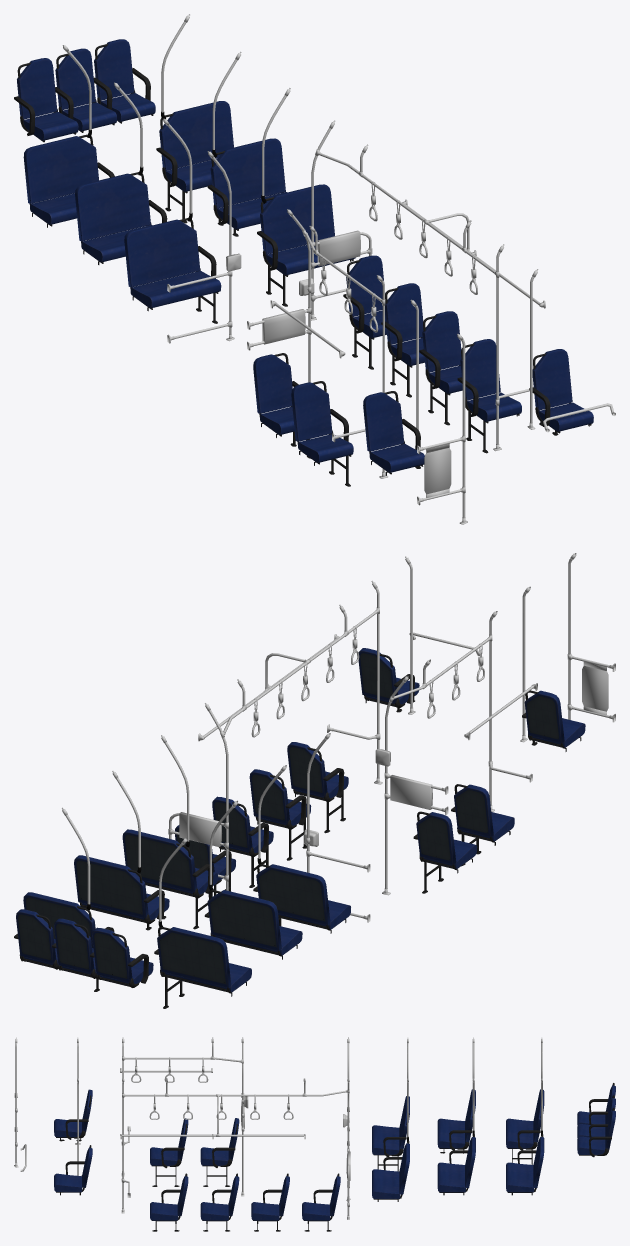
Rendered from Low_Floor_Bus_Chair_Pole.FBX.
3 renders of one model, top to bottom at view 1: azimuth 30°, elevation 25°; view 2: azimuth 150°, elevation 25°; view 3: azimuth 270°, elevation 25°, orthographic. The views are drawn at different scales.
Visible parts, largest first — view 1: Chair, Pole; view 2: Chair, Pole; view 3: Chair, Pole.
Part boxes in pixels (x1,y1,x2,y2): Chair: [14, 39, 593, 486]; Pole: [62, 14, 615, 524]; Chair: [14, 648, 585, 1008]; Pole: [62, 553, 615, 929]; Chair: [54, 1083, 615, 1231]; Pole: [14, 1037, 542, 1219].
Size of the model in its own units: 241 by 252 by 912.
